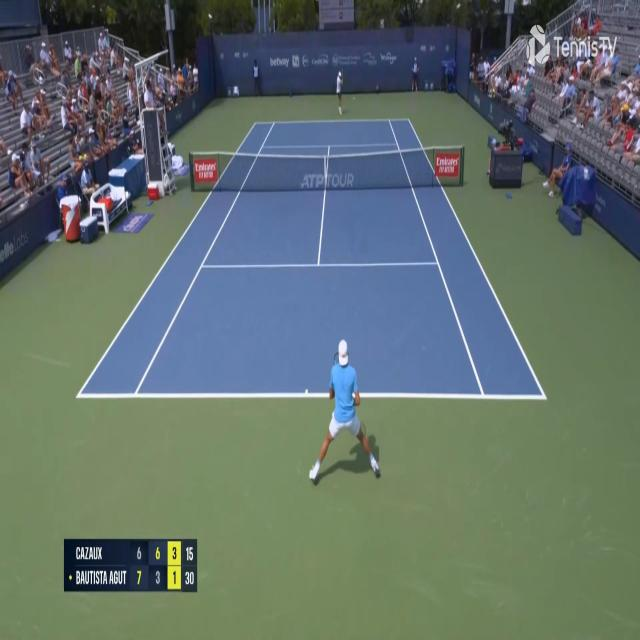tennis-player: (305, 334, 384, 490), (335, 69, 345, 115)
